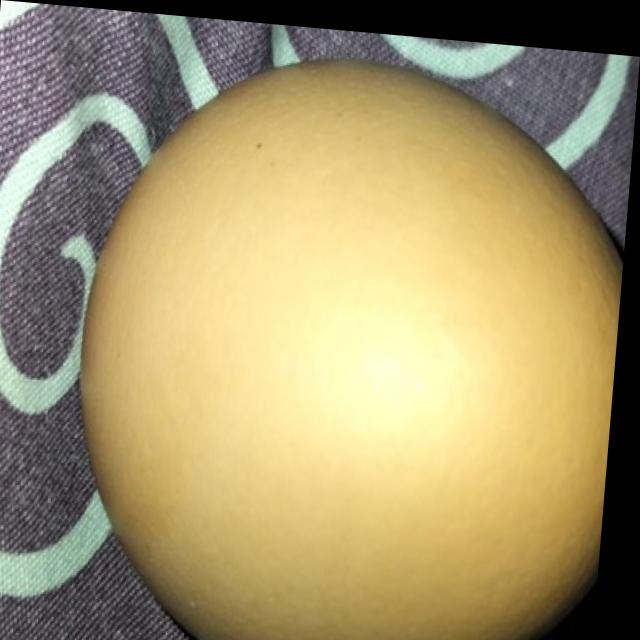fresh: (56, 29, 639, 640)
